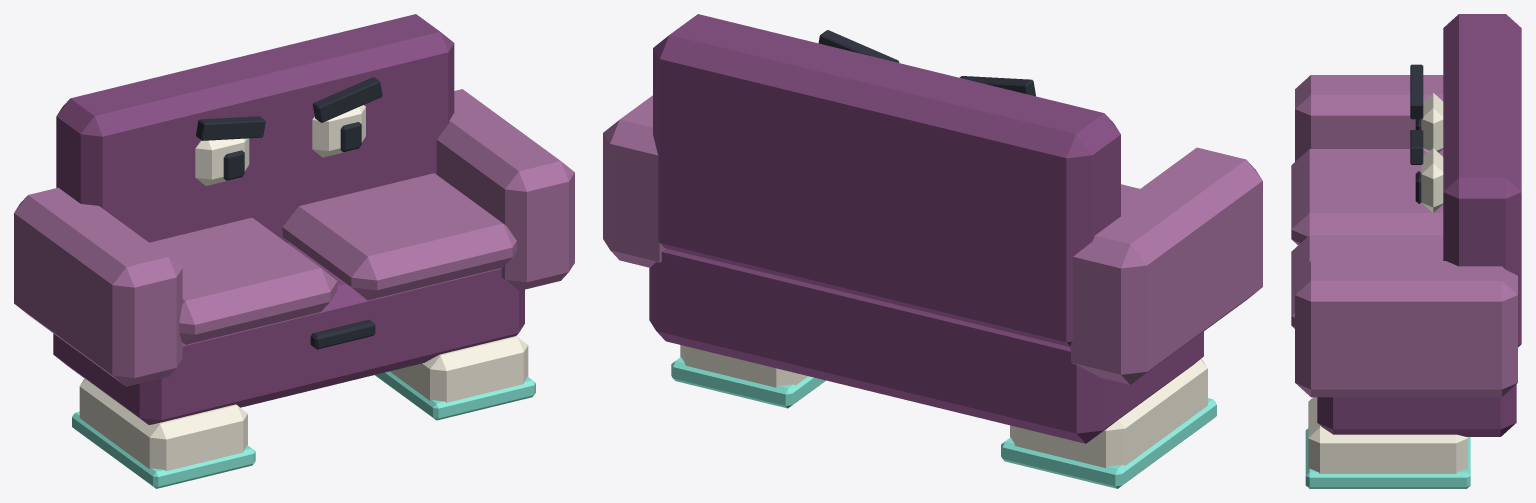
The model's file is Canape.fbx.
The picture shows the model from 3 angles, left to right: view 1: azimuth 30°, elevation 25°; view 2: azimuth 150°, elevation 25°; view 3: azimuth 270°, elevation 25°; orthographic projection. The views are drawn at different scales.
Parts seen in each view (by area): view 1: PR_Canape_Back, PR_Canape_Base, PR_Canape_Arm-0.84, PR_Canape_Cushion0.39, PR_Canape_Arm0.84, PR_Canape_Cushion-0.39, PR_Canape_Slipper-0.6, PR_Canape_Slipper0.6, PR_Canape_Sole-0.6, PR_Canape_Sole0.6, PR_Canape_Eye-0.25, PR_Canape_Brow0.25 (+3 smaller); view 2: PR_Canape_Back, PR_Canape_Base, PR_Canape_Arm-0.84, PR_Canape_Arm0.84, PR_Canape_Slipper-0.6, PR_Canape_Sole-0.6, PR_Canape_Sole0.6, PR_Canape_Slipper0.6, PR_Canape_Brow0.25, PR_Canape_Brow-0.25; view 3: PR_Canape_Arm0.84, PR_Canape_Back, PR_Canape_Cushion-0.39, PR_Canape_Arm-0.84, PR_Canape_Base, PR_Canape_Slipper0.6, PR_Canape_Cushion0.39, PR_Canape_Sole0.6, PR_Canape_Eye0.25, PR_Canape_Eye-0.25, PR_Canape_Brow-0.25, PR_Canape_Brow0.25.
Part boxes in pixels (x1,y1,x2,y2): PR_Canape_Back: [56, 14, 454, 242]; PR_Canape_Base: [53, 242, 524, 424]; PR_Canape_Arm-0.84: [14, 187, 182, 386]; PR_Canape_Cushion0.39: [282, 173, 516, 300]; PR_Canape_Arm0.84: [436, 89, 574, 290]; PR_Canape_Cushion-0.39: [149, 217, 337, 344]; PR_Canape_Slipper-0.6: [79, 378, 247, 471]; PR_Canape_Slipper0.6: [390, 336, 528, 402]; PR_Canape_Sole-0.6: [72, 411, 255, 488]; PR_Canape_Sole0.6: [375, 371, 535, 420]; PR_Canape_Eye-0.25: [195, 138, 249, 185]; PR_Canape_Brow0.25: [312, 77, 382, 122]; PR_Canape_Back: [653, 14, 1120, 346]; PR_Canape_Base: [649, 248, 1203, 443]; PR_Canape_Arm-0.84: [1070, 147, 1262, 384]; PR_Canape_Arm0.84: [603, 95, 665, 267]; PR_Canape_Slipper-0.6: [1010, 358, 1207, 467]; PR_Canape_Sole-0.6: [1001, 398, 1216, 488]; PR_Canape_Sole0.6: [671, 357, 825, 408]; PR_Canape_Slipper0.6: [680, 345, 807, 387]; PR_Canape_Brow0.25: [818, 30, 899, 62]; PR_Canape_Brow-0.25: [959, 76, 1035, 96]; PR_Canape_Arm0.84: [1295, 261, 1517, 397]; PR_Canape_Back: [1443, 14, 1521, 346]; PR_Canape_Cushion-0.39: [1291, 149, 1443, 245]; PR_Canape_Arm-0.84: [1295, 75, 1443, 161]; PR_Canape_Base: [1317, 384, 1516, 436]; PR_Canape_Slipper0.6: [1308, 397, 1467, 473]; PR_Canape_Cushion0.39: [1291, 235, 1443, 328]; PR_Canape_Sole0.6: [1305, 428, 1470, 488]; PR_Canape_Eye0.25: [1421, 148, 1443, 212]; PR_Canape_Eye-0.25: [1421, 92, 1443, 152]; PR_Canape_Brow-0.25: [1410, 64, 1423, 119]; PR_Canape_Brow0.25: [1410, 130, 1423, 164].
Size of the model in its own units: 198 by 128 by 88.
